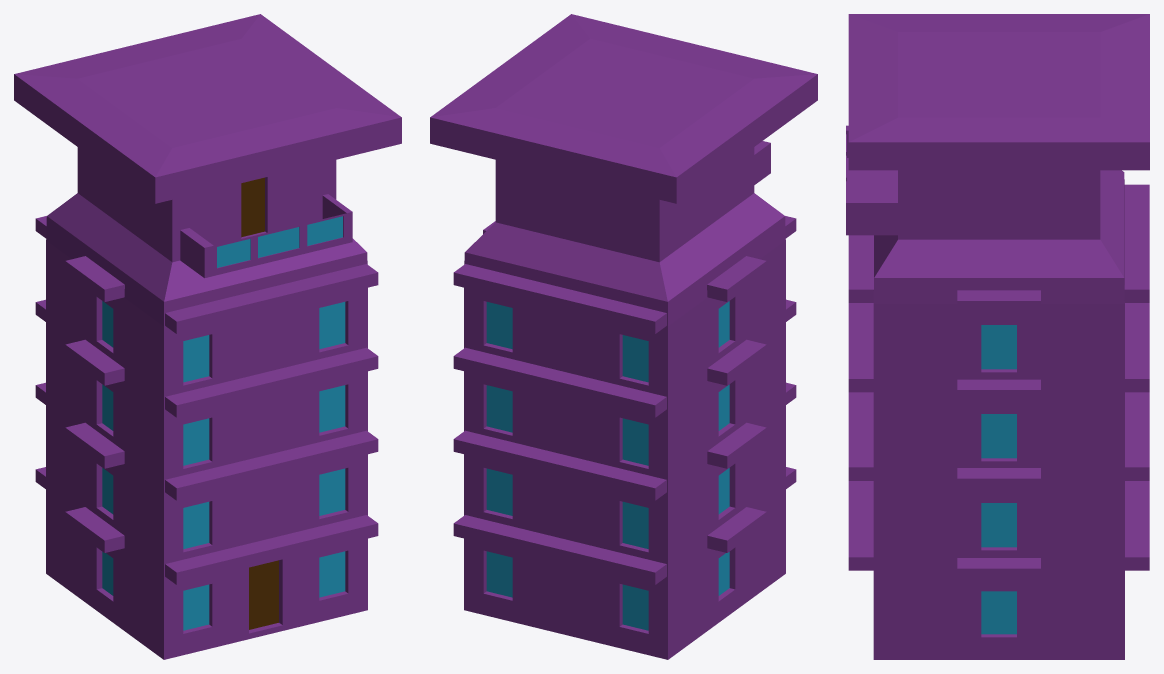
File: apartment1.glb
3 views of the same model, side by side, from view 1: azimuth 30°, elevation 25°; view 2: azimuth 150°, elevation 25°; view 3: azimuth 270°, elevation 25° (orthographic). The views are drawn at different scales.
Visible parts, largest first — view 1: apartment2; view 2: apartment2; view 3: apartment2.
Part boxes in pixels (<box>): apartment2: <box>14,14,401,659</box>; apartment2: <box>430,14,817,659</box>; apartment2: <box>846,14,1149,659</box>.
Size of the model in its own units: 12.08 by 23.35 by 12.09.
Materials: 1 (1 with a texture image).
